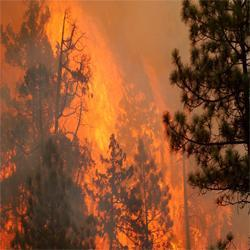fire: (80, 71, 114, 141)
